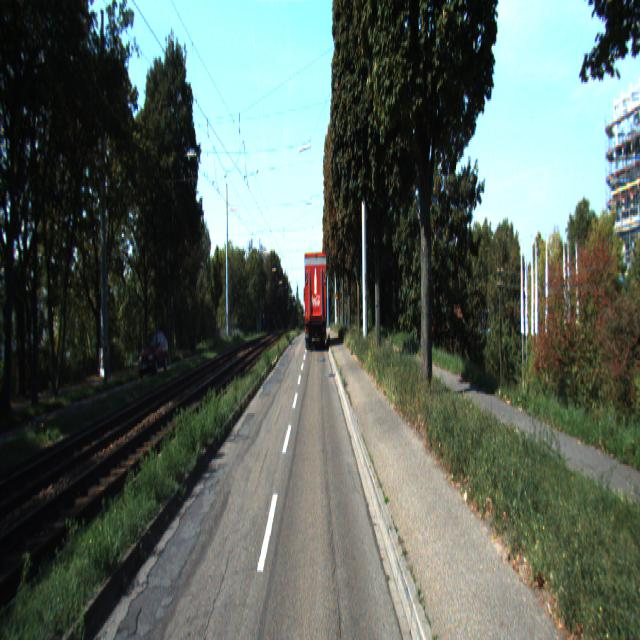Car: (302, 250, 327, 351), (137, 331, 170, 382)
